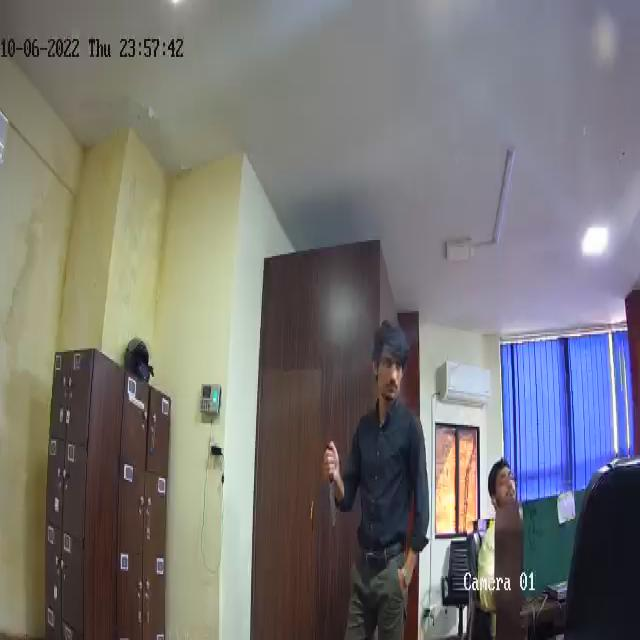Knife: (318, 444, 340, 532)
